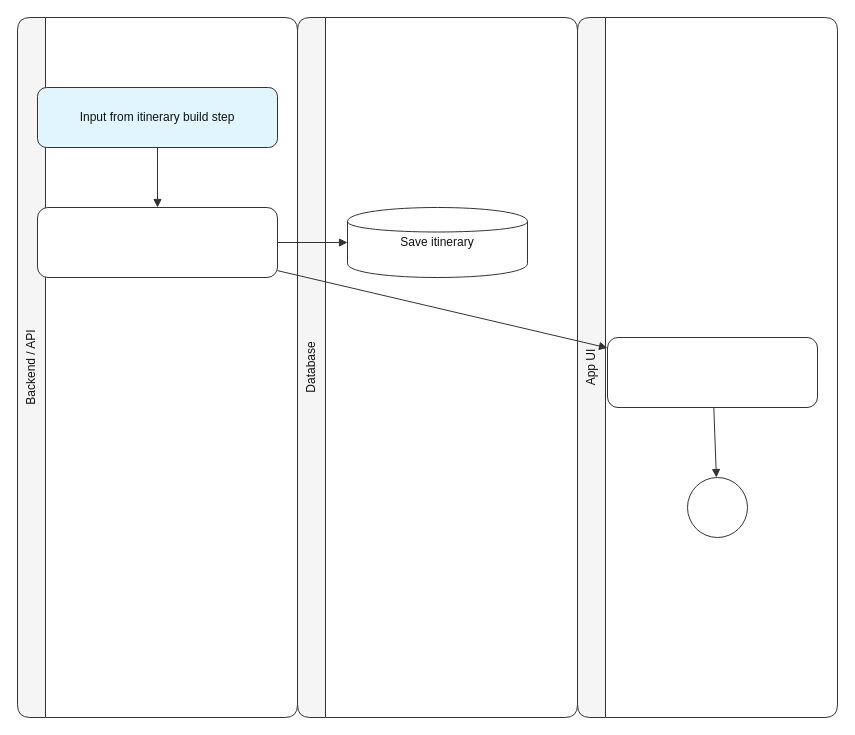
This 855x735 diagram has some shape labels left out. The centre of each missing label's shape, as x and y in pixels:
Display itinerary + map links: the point at 712,372
End: the point at 717,507
Store itinerary + metadata (costs, routes, tags): the point at 157,242
